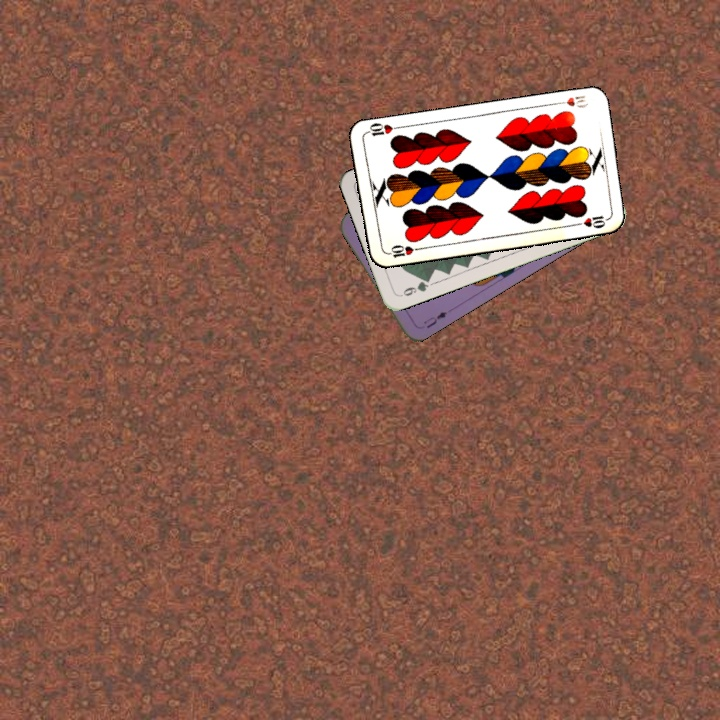EU: (419, 307, 450, 331)
G9: (396, 273, 433, 299)
H10: (550, 91, 590, 111), (382, 241, 422, 260)
